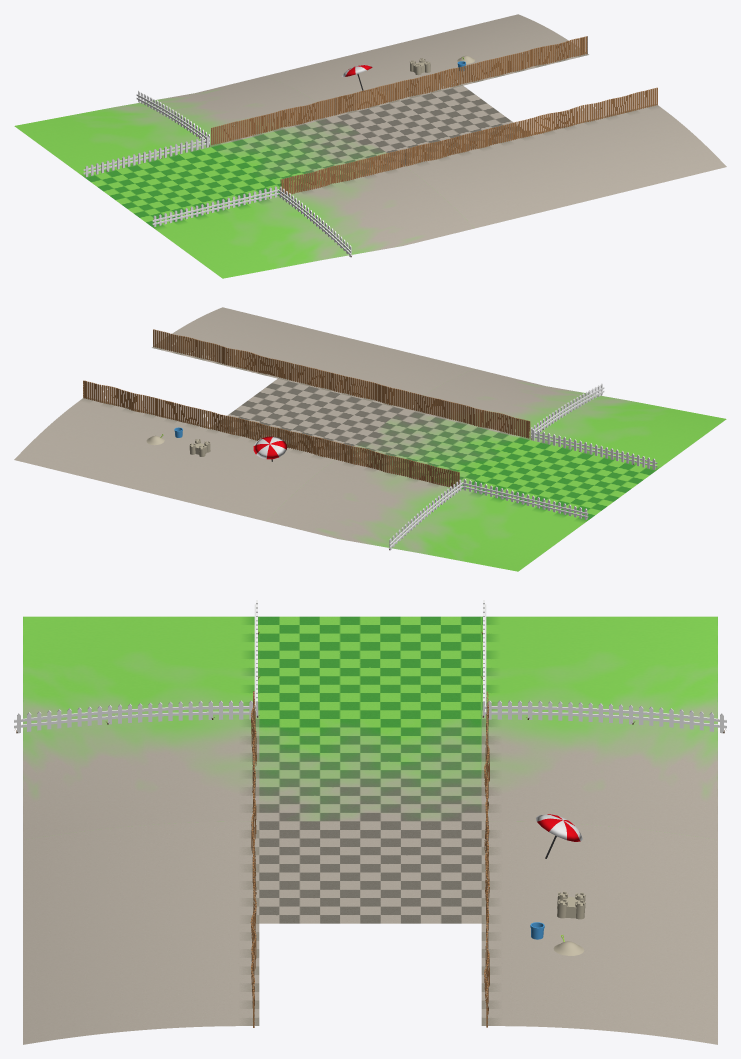
Rendered from beachworld.glb.
The picture shows the model from 3 angles, top to bottom: view 1: azimuth 30°, elevation 25°; view 2: azimuth 150°, elevation 25°; view 3: azimuth 270°, elevation 25°; orthographic projection. The views are drawn at different scales.
Visible parts, largest first — view 1: field_beach, field_grass_beach, tile_grass, tile_grass_beach, tile_beach; view 2: field_beach, field_grass_beach, tile_grass, tile_grass_beach, tile_beach, umbrella; view 3: field_grass_beach, field_beach, tile_beach, tile_grass_beach, tile_grass, umbrella, sandcastle.
Boxes of the visible parts, x1,y1,x2,y2 form: field_beach: [266, 14, 726, 228]; field_grass_beach: [14, 76, 474, 278]; tile_grass: [85, 147, 274, 226]; tile_grass_beach: [211, 116, 399, 195]; tile_beach: [337, 86, 524, 164]; field_beach: [14, 307, 474, 521]; field_grass_beach: [266, 369, 726, 571]; tile_grass: [466, 440, 655, 519]; tile_grass_beach: [339, 409, 529, 488]; tile_beach: [211, 379, 403, 457]; umbrella: [253, 436, 286, 461]; field_grass_beach: [14, 600, 726, 839]; field_beach: [23, 792, 717, 1044]; tile_beach: [259, 821, 481, 923]; tile_grass_beach: [259, 719, 481, 821]; tile_grass: [259, 616, 481, 718]; umbrella: [536, 814, 582, 858]; sandcastle: [557, 891, 585, 919].
Bounding box in the file's own units: 96 × 6.34 × 70.62.
Materials: 13 (6 with a texture image).
